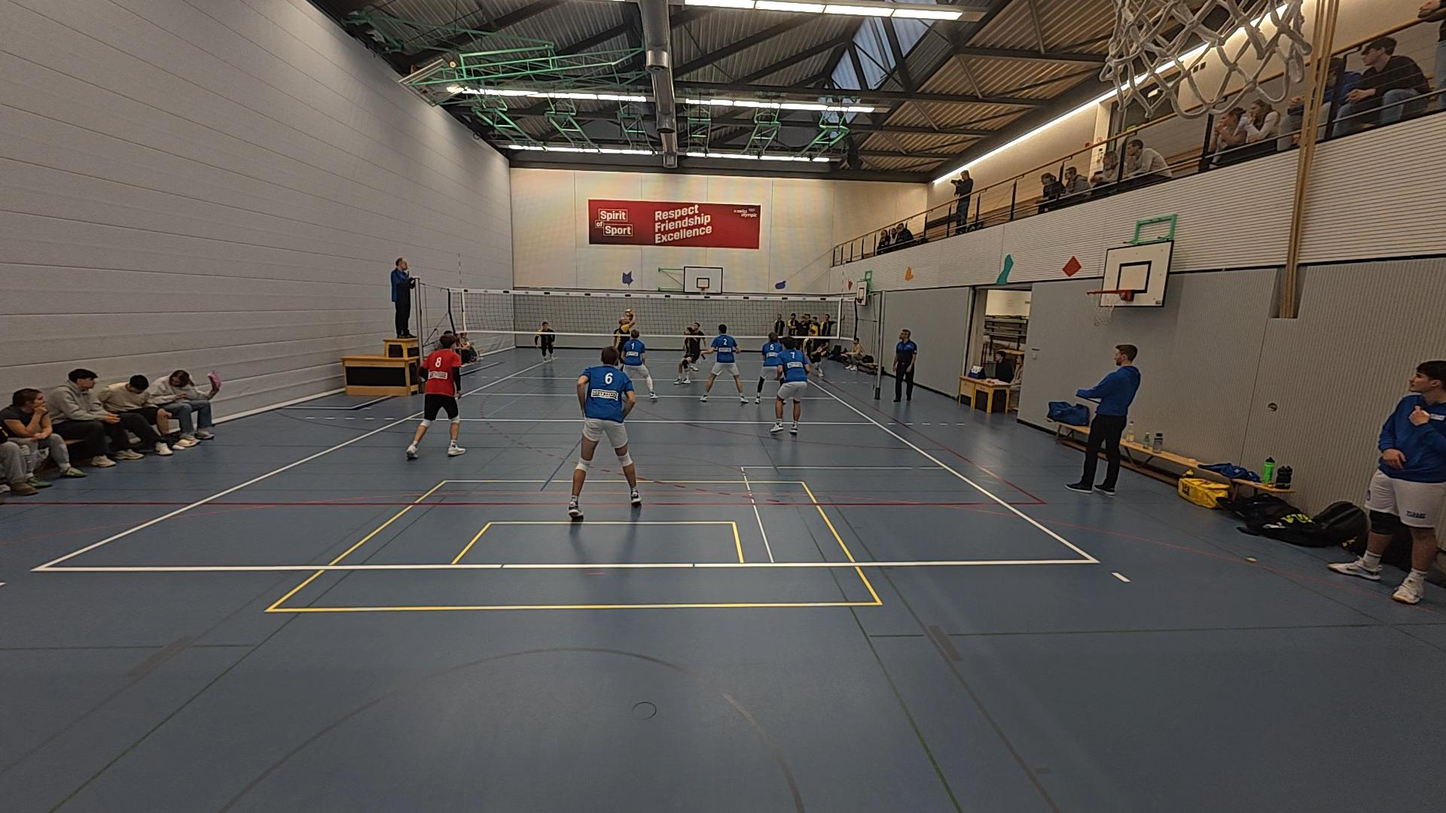Player: (569, 346, 642, 520), (406, 333, 468, 459), (764, 334, 812, 437), (701, 323, 747, 403), (614, 325, 657, 403), (676, 321, 704, 382), (529, 317, 557, 364), (801, 329, 825, 378), (688, 318, 708, 371)
Set: (613, 307, 637, 374)
ball: (901, 264, 916, 281), (625, 306, 634, 320)
